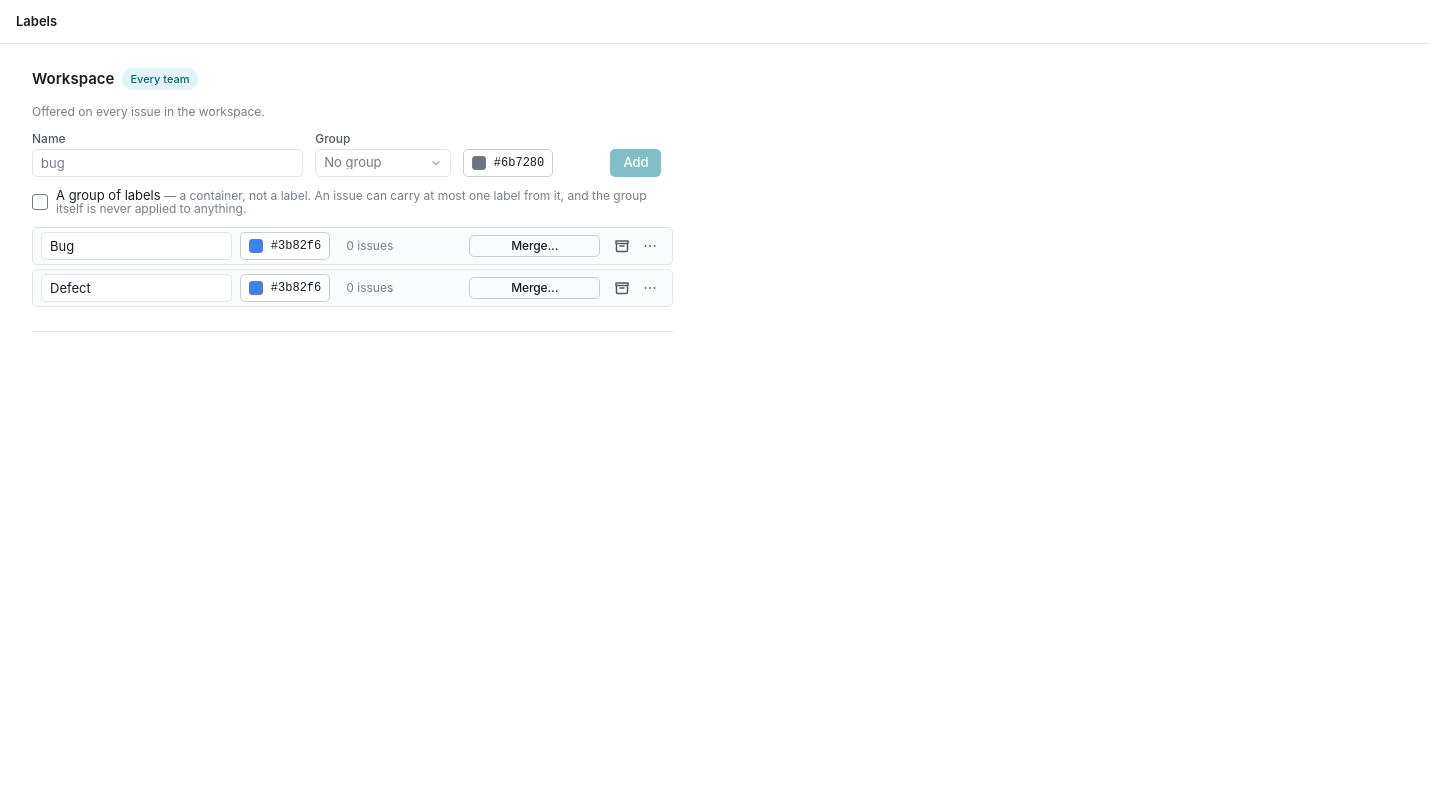
Scenario: merging a label › asks before it relabels anything
Step 1. Click the button with aria-label "Merge Bug into another label" → (535, 246), box [469,235,600,257]
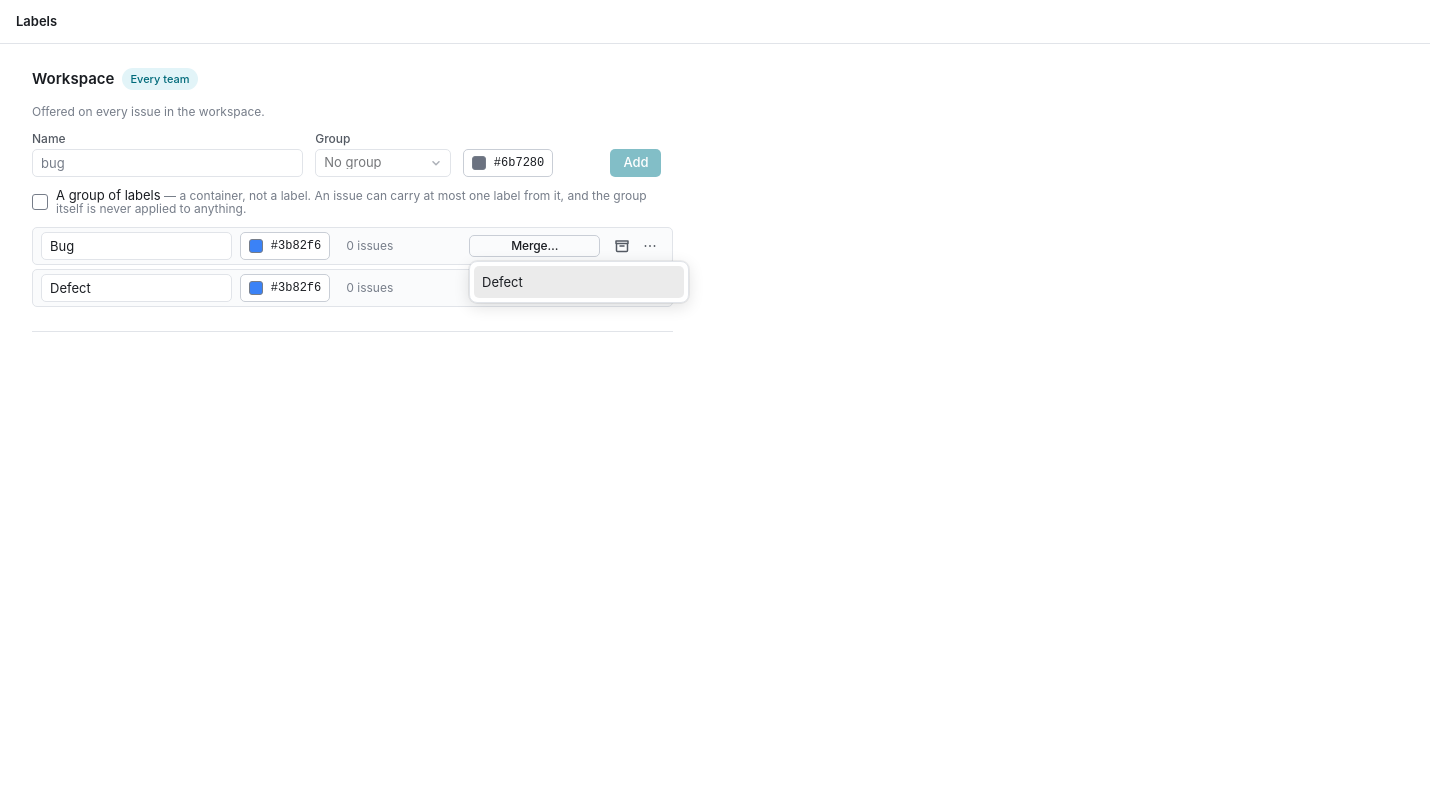
Step 2. Click the menu item "Defect" → (579, 282), box [474,266,684,298]
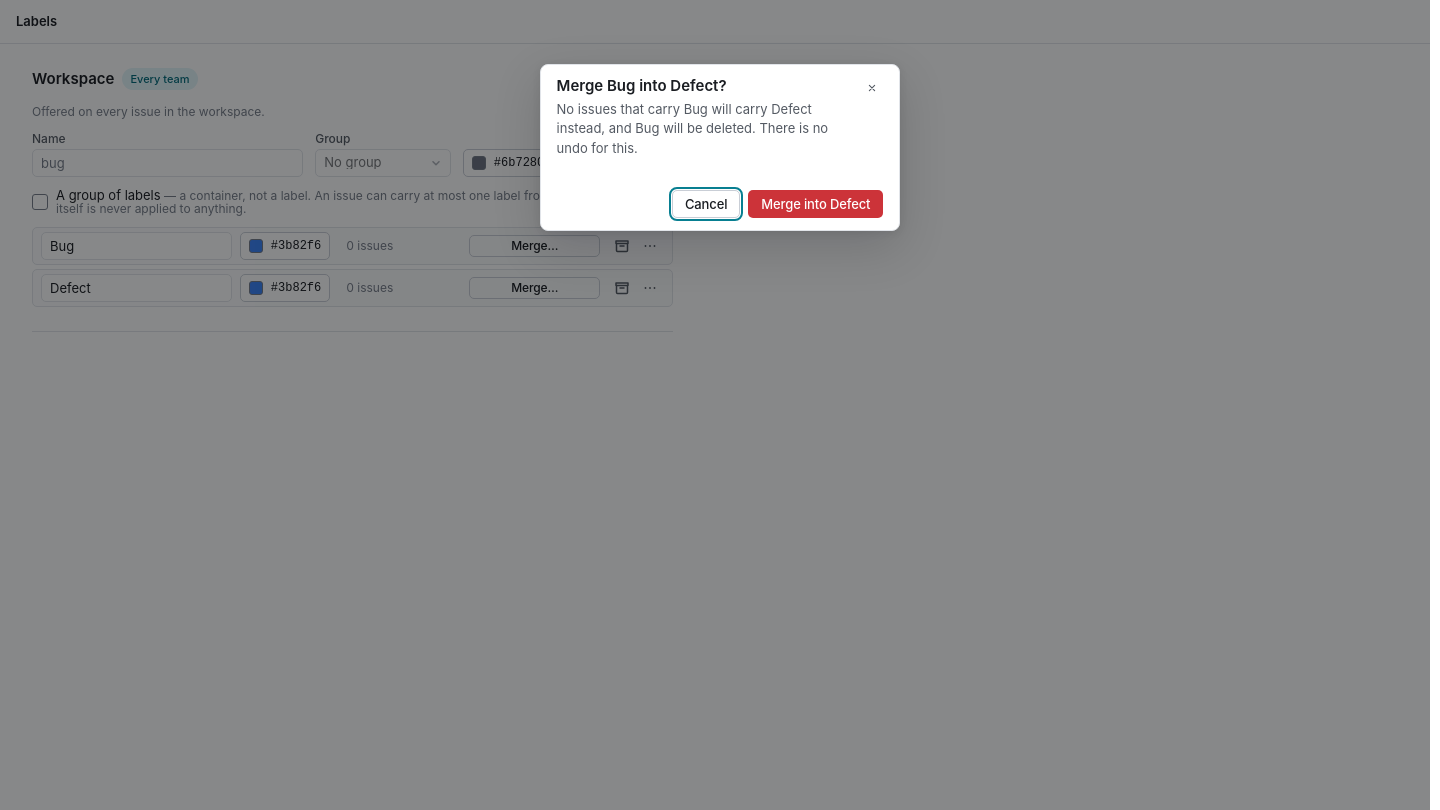
Check: the dialog shows "Bug", box [557,76,727,95]
Check: the dialog shows "Defect", box [557,76,727,95]
Check: the dialog shows "will be deleted", box [557,101,828,156]
